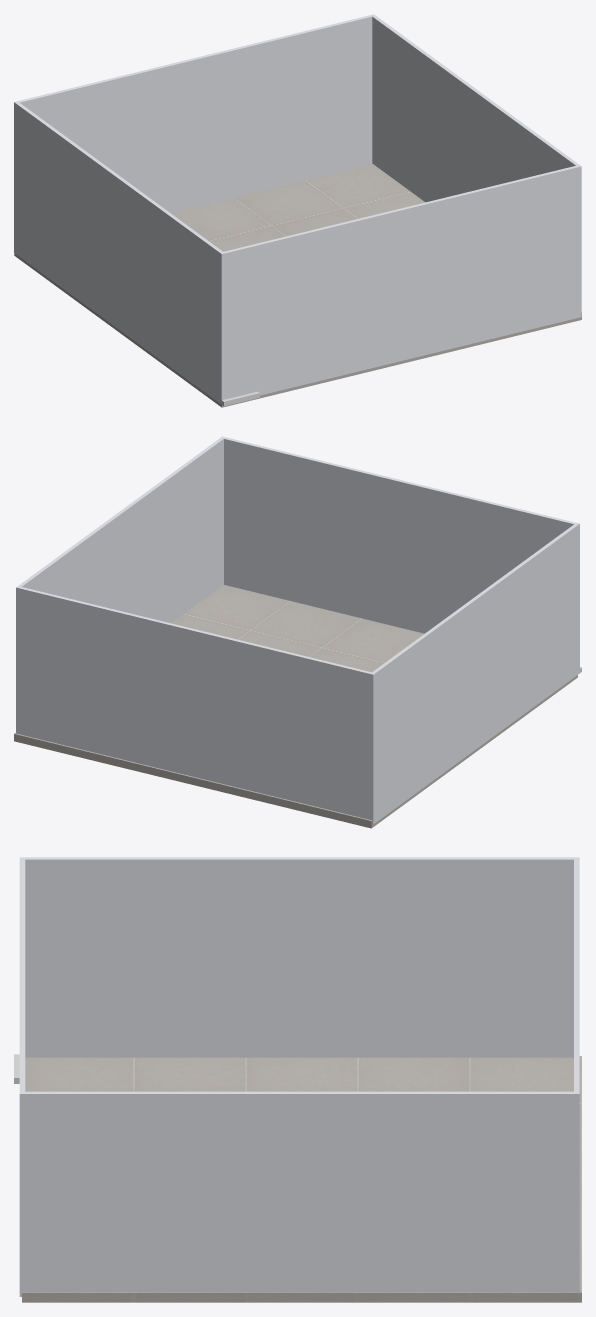
The model's file is ruanganLabFix.fbx.
The picture shows the model from 3 angles, top to bottom: view 1: azimuth 30°, elevation 25°; view 2: azimuth 150°, elevation 25°; view 3: azimuth 270°, elevation 25°; orthographic projection. The views are drawn at different scales.
Visible parts, largest first — view 1: Room; view 2: Room; view 3: Room.
Boxes of the visible parts, x1=… form: Room: x1=14, y1=14, x2=581, y2=407; Room: x1=14, y1=436, x2=581, y2=828; Room: x1=14, y1=857, x2=581, y2=1302.
Size of the model in its own units: 1003 by 410 by 1014.
3 materials, 1 textured.
